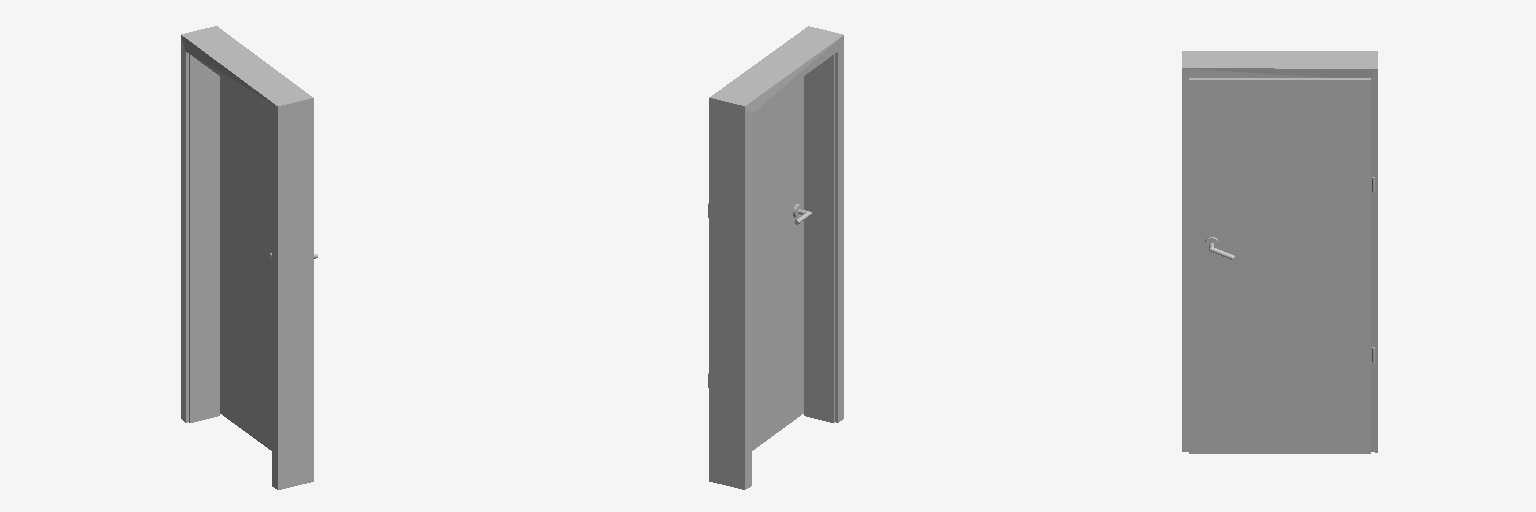
Rendered from door68.obj.
The picture shows the model from 3 angles: view 1: azimuth 30°, elevation 25°; view 2: azimuth 150°, elevation 25°; view 3: azimuth 270°, elevation 25°; orthographic projection.
Visible parts, largest first — view 1: Cylinder.005, Cylinder.001; view 2: Cylinder.005, Cylinder.001; view 3: Cylinder.001, Cylinder.005.
Boxes of the visible parts, box(x1,y1,x2,y2) form: Cylinder.005: box(181, 26, 313, 489); Cylinder.001: box(220, 77, 271, 450); Cylinder.005: box(708, 26, 843, 489); Cylinder.001: box(708, 77, 803, 450); Cylinder.001: box(1189, 78, 1374, 453); Cylinder.005: box(1182, 51, 1377, 452).
Size of the model in its own units: 0.3039 by 2.05 by 0.95.